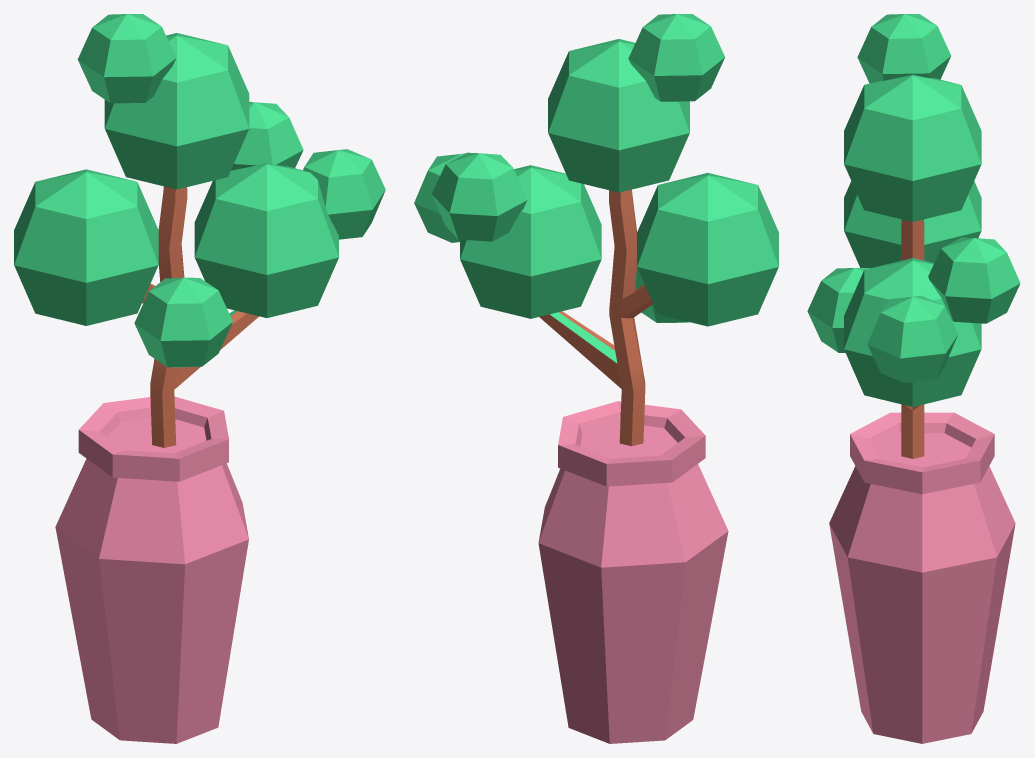
The model's file is MACETA ALTA.fbx.
The picture shows the model from 3 angles, left to right: view 1: azimuth 30°, elevation 25°; view 2: azimuth 150°, elevation 25°; view 3: azimuth 270°, elevation 25°; orthographic projection. The views are drawn at different scales.
Visible parts, largest first — view 1: ARBOLITO, maceta_alta; view 2: ARBOLITO, maceta_alta; view 3: ARBOLITO, maceta_alta.
Boxes of the visible parts, x1,y1,x2,y2 form: ARBOLITO: [14, 14, 385, 447]; maceta_alta: [55, 396, 248, 743]; ARBOLITO: [414, 14, 778, 446]; maceta_alta: [538, 401, 728, 743]; ARBOLITO: [807, 14, 1020, 458]; maceta_alta: [829, 412, 1015, 743].
Size of the model in its own units: 374 by 704 by 199.
